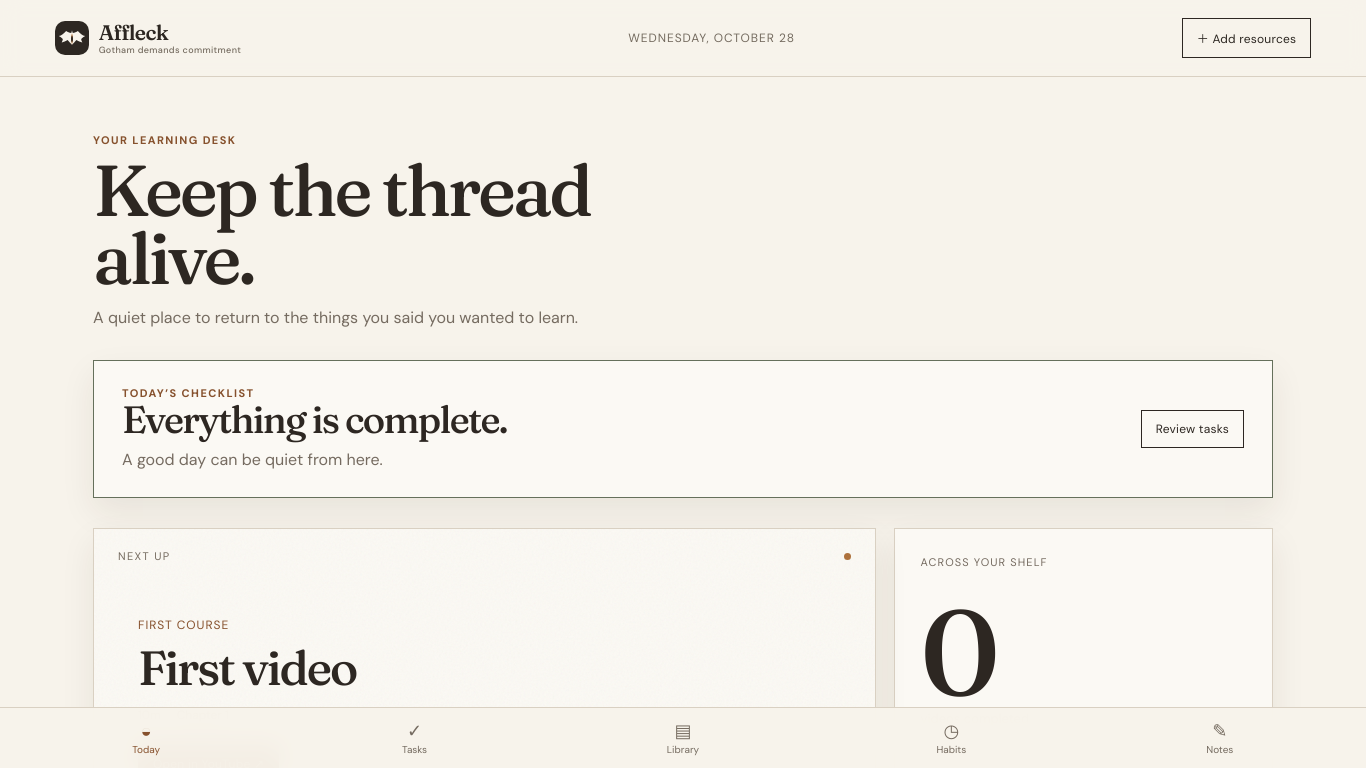
it: keeps previous-day task titles out of today while retaining daily history
Click the button "✓ Tasks" at (415, 738), box [280,717,549,759]
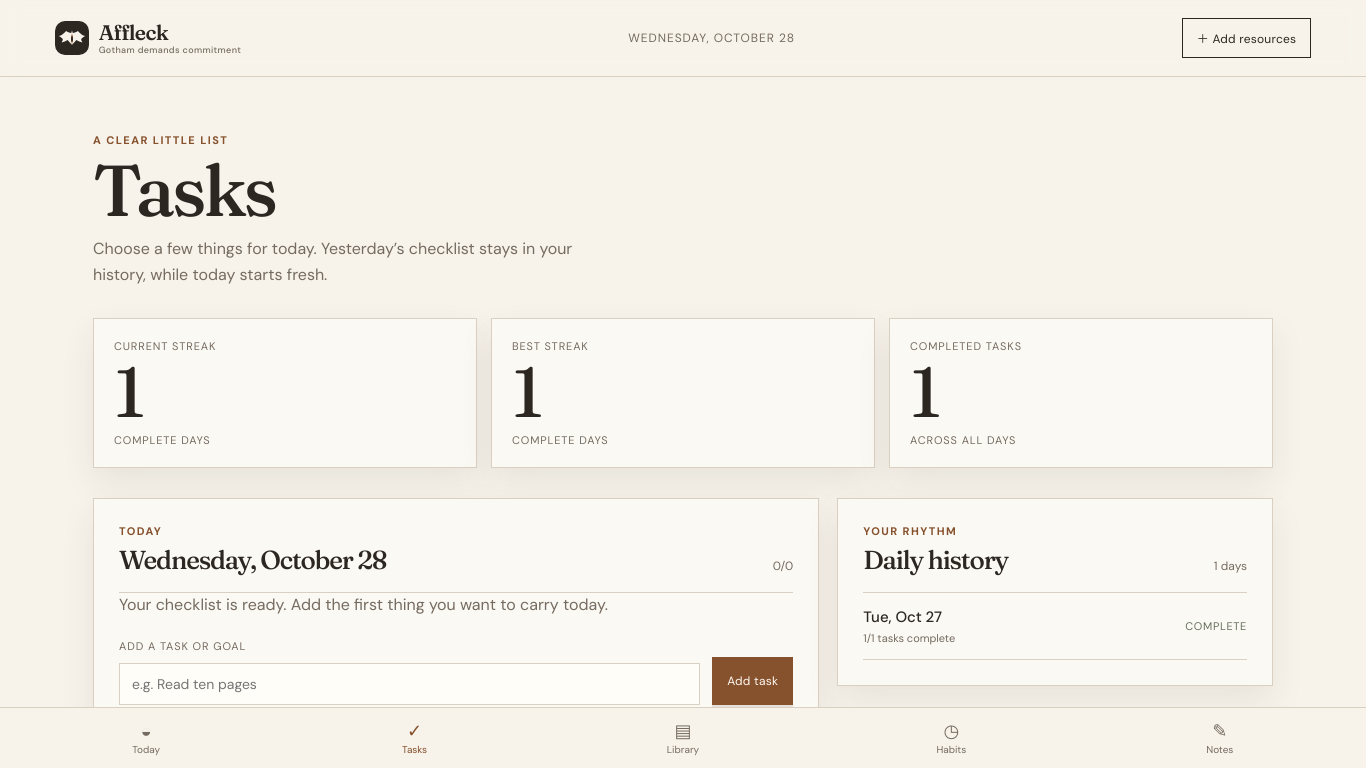
Check: the heading "Daily history" is shown, box [863,547,1008,574]
Check: the text "1/1 tasks complete" is shown, box [863,631,955,645]
